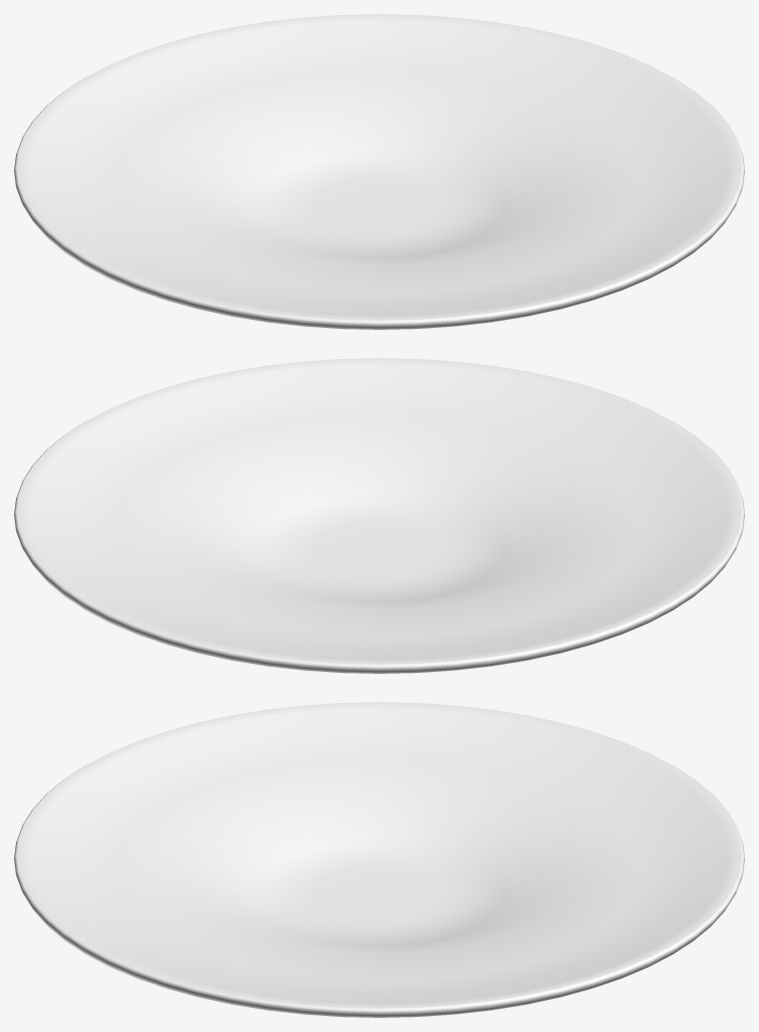
File: Osara_low.fbx
The picture shows the model from 3 angles, top to bottom: view 1: azimuth 30°, elevation 25°; view 2: azimuth 150°, elevation 25°; view 3: azimuth 270°, elevation 25°; orthographic projection.
Parts seen in each view (by area): view 1: pCylinder1; view 2: pCylinder1; view 3: pCylinder1.
Part boxes in pixels (x1,y1,x2,y2): pCylinder1: (14,14,744,329); pCylinder1: (14,358,744,673); pCylinder1: (14,702,744,1017).
Bounding box in the file's own units: 6.25 × 0.7026 × 6.25.
